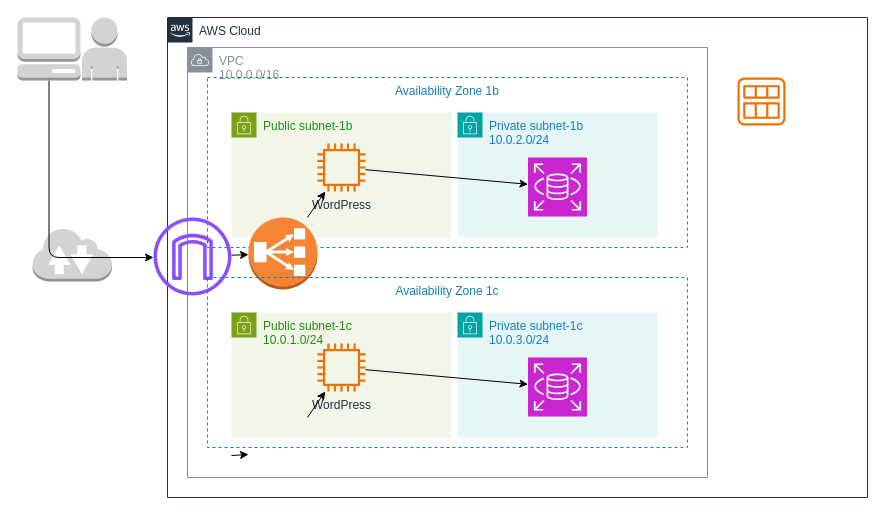
Image size: 885x515. Some labels were removed from this diagram. The centre of each missing label's shape, as x and y in pixels:
AMI: the point at 761,101
Internet Gateway: the point at 192,256
RDS(Primary): the point at 557,186
RDS(Secondary): the point at 557,386
